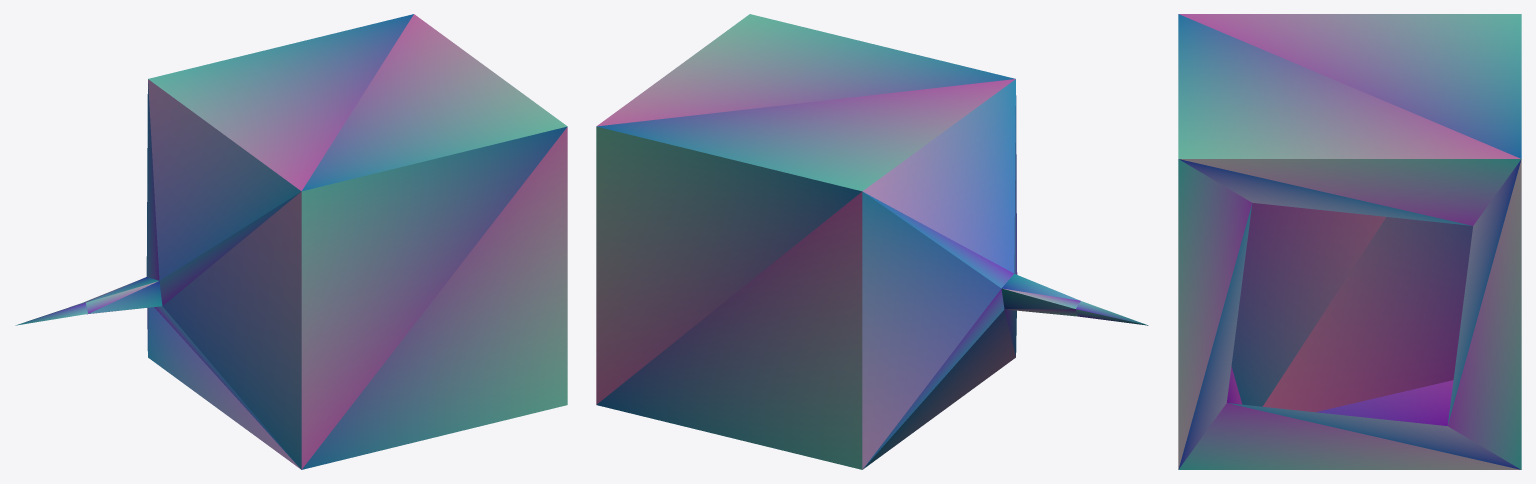
Rendered from Cube_Outline.fbx.
The picture shows the model from 3 angles, left to right: view 1: azimuth 30°, elevation 25°; view 2: azimuth 150°, elevation 25°; view 3: azimuth 270°, elevation 25°; orthographic projection. The views are drawn at different scales.
Visible parts, largest first — view 1: mooa_bakeSmoothedNormalToColor; view 2: mooa_bakeSmoothedNormalToColor; view 3: mooa_bakeSmoothedNormalToColor.
Part boxes in pixels (x1,y1,x2,y2): mooa_bakeSmoothedNormalToColor: (15,14,567,469); mooa_bakeSmoothedNormalToColor: (596,14,1148,469); mooa_bakeSmoothedNormalToColor: (1178,14,1521,469).
Bounding box in the file's own units: 1.79 × 1 × 1.
